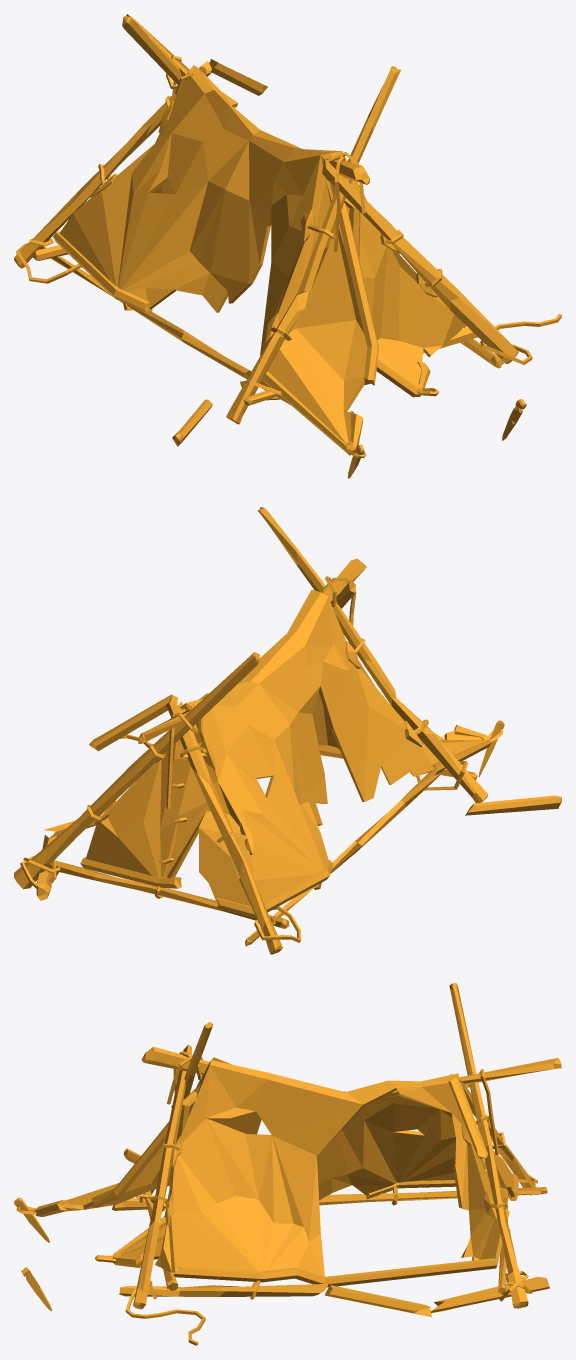
Rendered from SM_Tent_Norseman_Striped_Destroyed_Fantasy.fbx.
3 renders of one model, top to bottom at view 1: azimuth 30°, elevation 25°; view 2: azimuth 150°, elevation 25°; view 3: azimuth 270°, elevation 25°, orthographic. The views are drawn at different scales.
Parts seen in each view (by area): view 1: tent-norseman-striped-destroyed-fantasy; view 2: tent-norseman-striped-destroyed-fantasy; view 3: tent-norseman-striped-destroyed-fantasy.
Boxes of the visible parts, x1=… form: tent-norseman-striped-destroyed-fantasy: x1=14, y1=14, x2=561, y2=478; tent-norseman-striped-destroyed-fantasy: x1=14, y1=507, x2=561, y2=954; tent-norseman-striped-destroyed-fantasy: x1=14, y1=983, x2=561, y2=1345.
Size of the model in its own units: 3.18 by 2.24 by 3.98.
